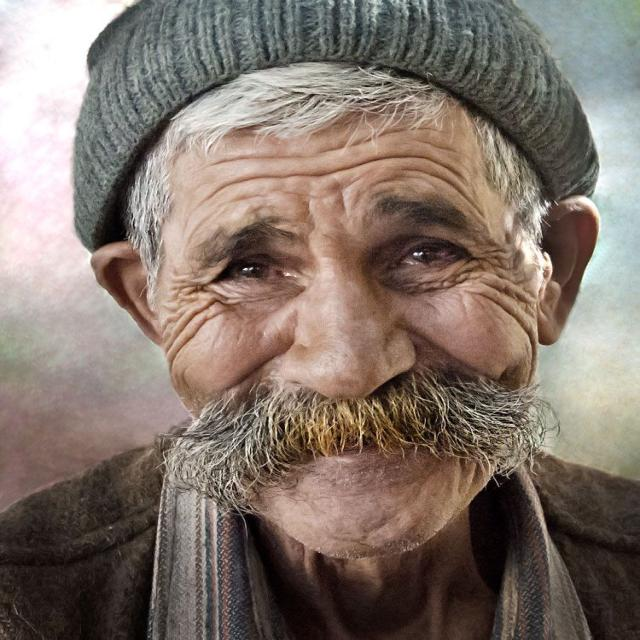front: (152, 155, 536, 510)
